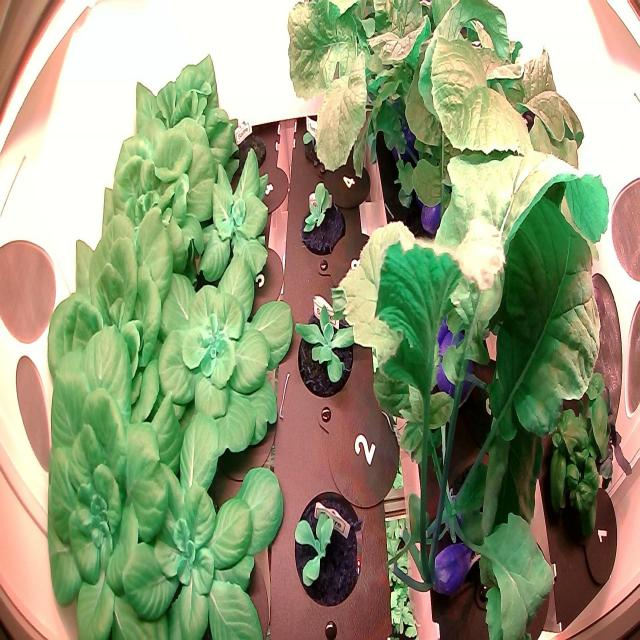pod: (231, 114, 271, 176)
young: (38, 314, 182, 640), (104, 396, 294, 640), (43, 215, 204, 458), (149, 238, 298, 467), (101, 97, 225, 260), (124, 45, 236, 190), (192, 136, 285, 292), (289, 479, 366, 614), (292, 292, 360, 403), (297, 178, 353, 263)
